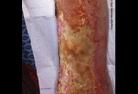NonPU: (58, 0, 110, 94)
